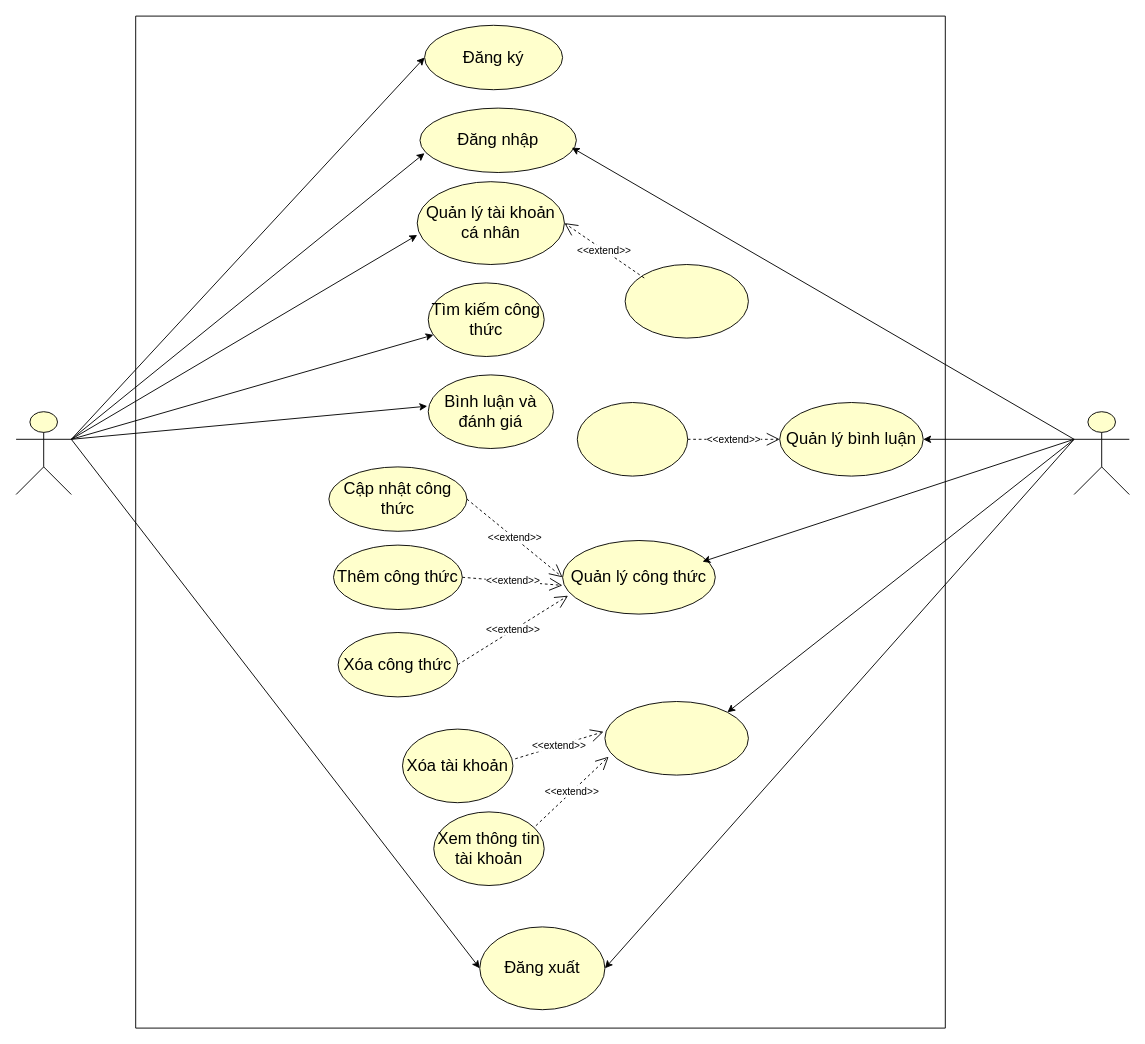
This 1145x1044 diagram has some shape labels left out. The centre of each missing label's shape, as x and y in pixels:
Admin: (1101,452)
Quản lý tài khoản người dùng: (676,738)
Sửa thông tin cá nhân: (686,301)
User: (43,452)
Xóa bình luận: (632,439)
